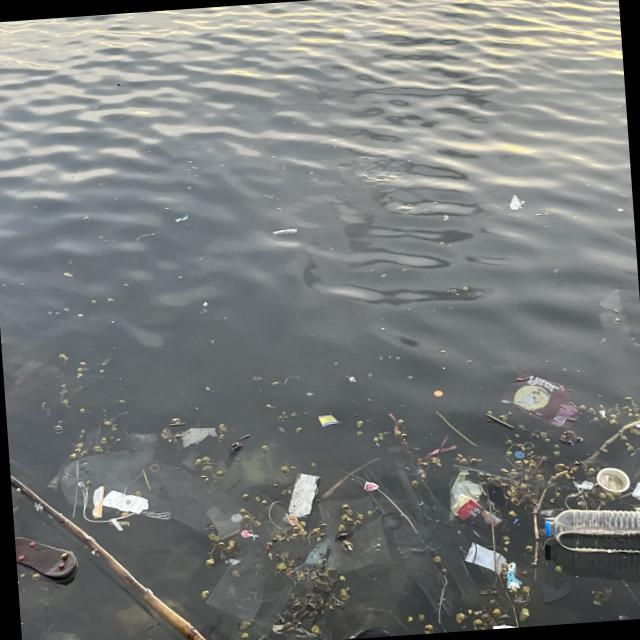plastic bottle: (545, 504, 640, 563)
